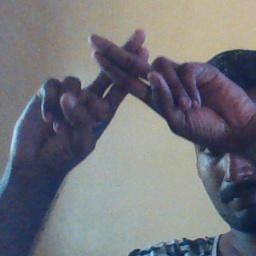F: (60, 23, 197, 140)
